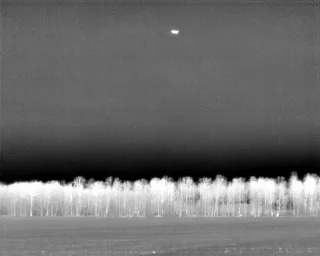DRONE: (168, 26, 182, 39)
